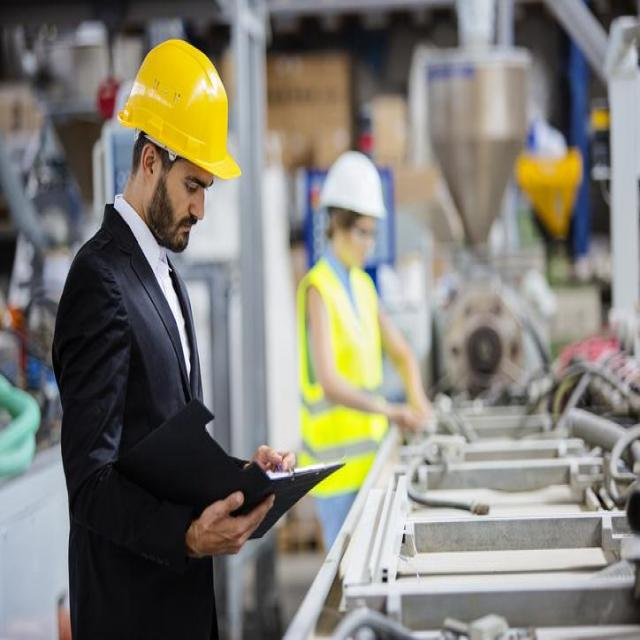Reflective-Jacket: (293, 254, 389, 493)
Safety-Helmet: (118, 36, 242, 179), (318, 147, 387, 221)
